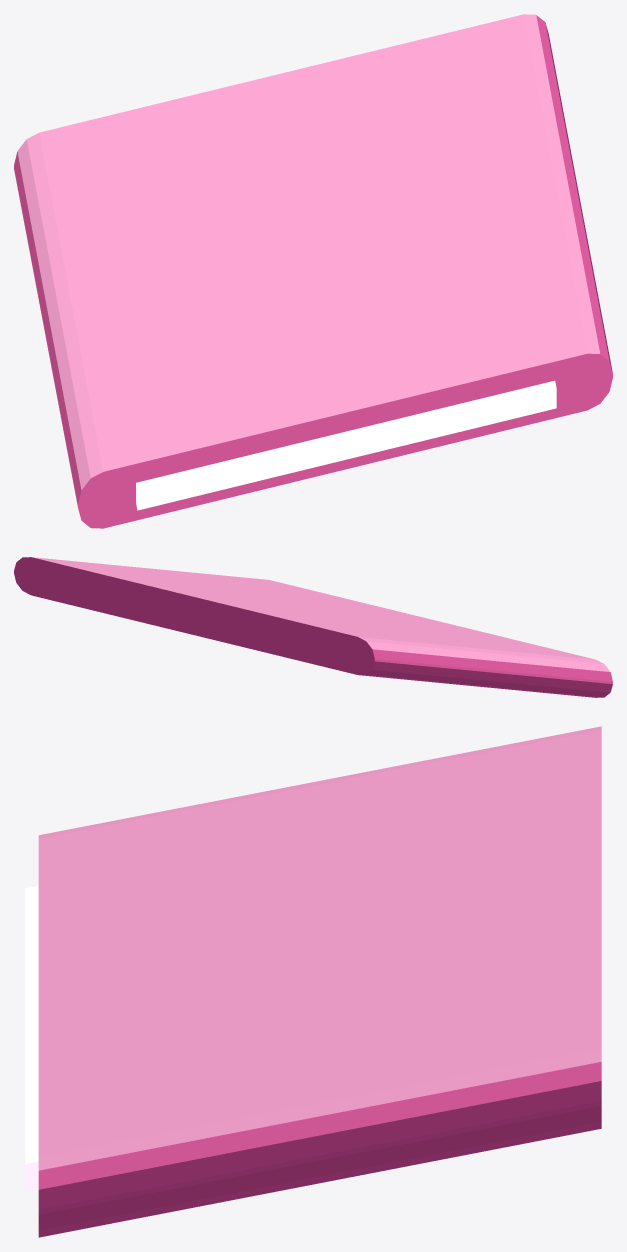
The model's file is Plate3D_Pad.gltf.
The picture shows the model from 3 angles, top to bottom: view 1: azimuth 30°, elevation 25°; view 2: azimuth 150°, elevation 25°; view 3: azimuth 270°, elevation 25°; orthographic projection. The views are drawn at different scales.
Parts seen in each view (by area): view 1: Plate3D_Pad_baked; view 2: Plate3D_Pad_baked; view 3: Plate3D_Pad_baked.
Part boxes in pixels (x1=…): Plate3D_Pad_baked: x1=14, y1=14, x2=612, y2=528; Plate3D_Pad_baked: x1=14, y1=557, x2=612, y2=697; Plate3D_Pad_baked: x1=25, y1=726, x2=601, y2=1237.
Size of the model in its own units: 0.94 by 0.275 by 0.512.
